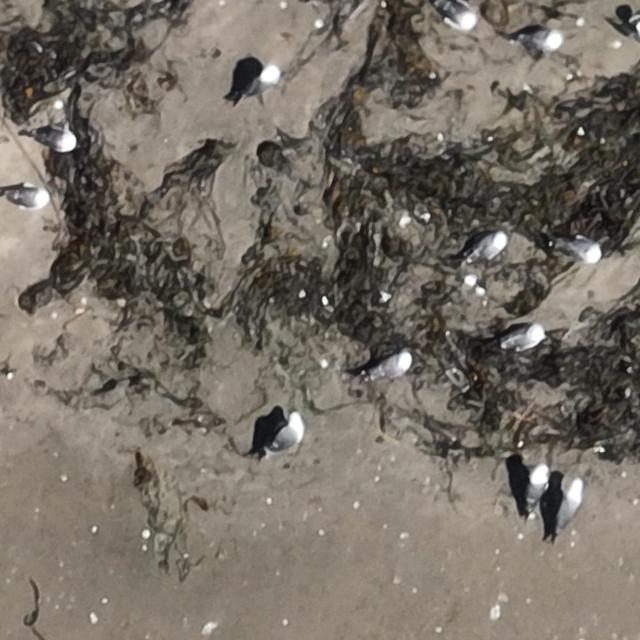umineko: (560, 481, 584, 528), (269, 417, 302, 451), (245, 64, 280, 96), (370, 354, 410, 378), (470, 232, 506, 258), (505, 326, 544, 349), (522, 29, 562, 50), (444, 4, 476, 30), (10, 187, 49, 208), (528, 470, 548, 510), (570, 238, 602, 262), (39, 130, 74, 151)
